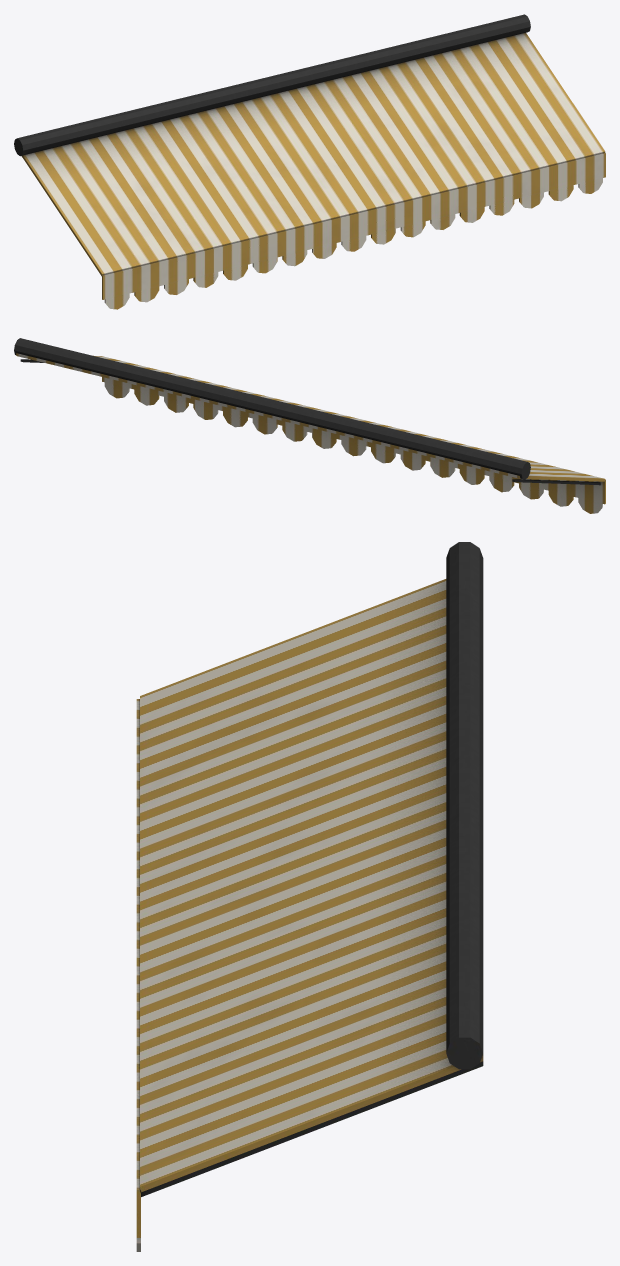
Rendered from awning_44_ochre.glb.
3 renders of one model, top to bottom at view 1: azimuth 30°, elevation 25°; view 2: azimuth 150°, elevation 25°; view 3: azimuth 270°, elevation 25°, orthographic. The views are drawn at different scales.
Visible parts, largest first — view 1: awning_44_ochre; view 2: awning_44_ochre; view 3: awning_44_ochre.
Boxes of the visible parts, x1,y1,x2,y2 form: awning_44_ochre: [14, 14, 605, 309]; awning_44_ochre: [14, 338, 605, 513]; awning_44_ochre: [136, 542, 483, 1251].
Size of the model in its own units: 4.44 by 0.9566 by 1.31.
1 material, 1 textured.
